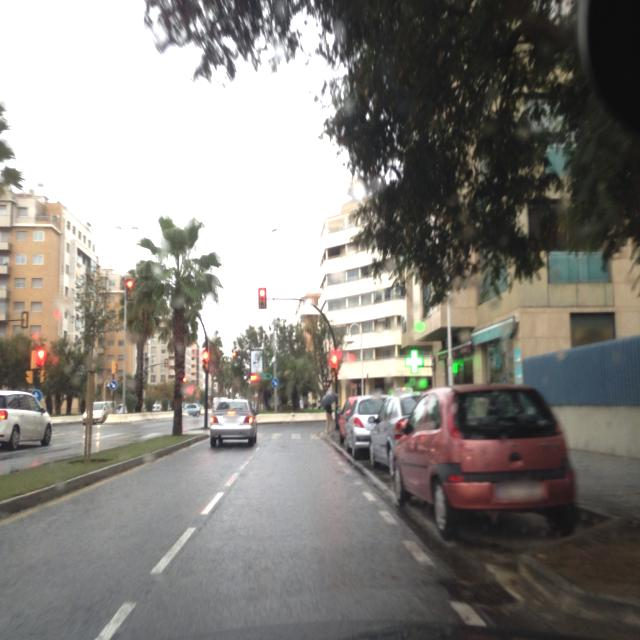car: (393, 381, 579, 541), (368, 391, 424, 478), (342, 393, 391, 461), (0, 389, 52, 450), (209, 397, 258, 449), (337, 394, 361, 446), (82, 401, 108, 425), (182, 402, 202, 417), (115, 404, 128, 414), (152, 402, 162, 412)
